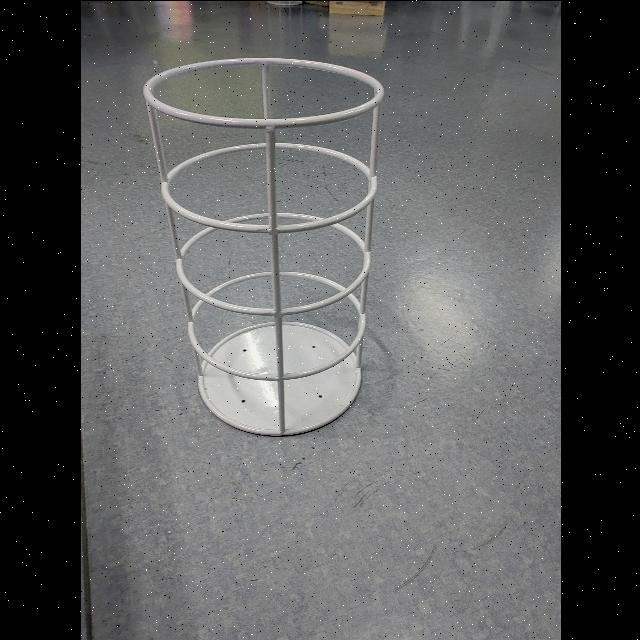S: (140, 52, 384, 442)
